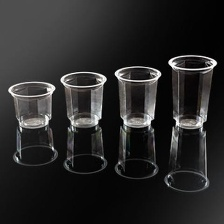glass: (165, 51, 220, 136), (159, 121, 215, 195), (111, 60, 163, 126), (56, 69, 109, 130), (111, 120, 162, 181), (6, 75, 56, 130), (60, 119, 109, 175), (10, 124, 60, 167)
